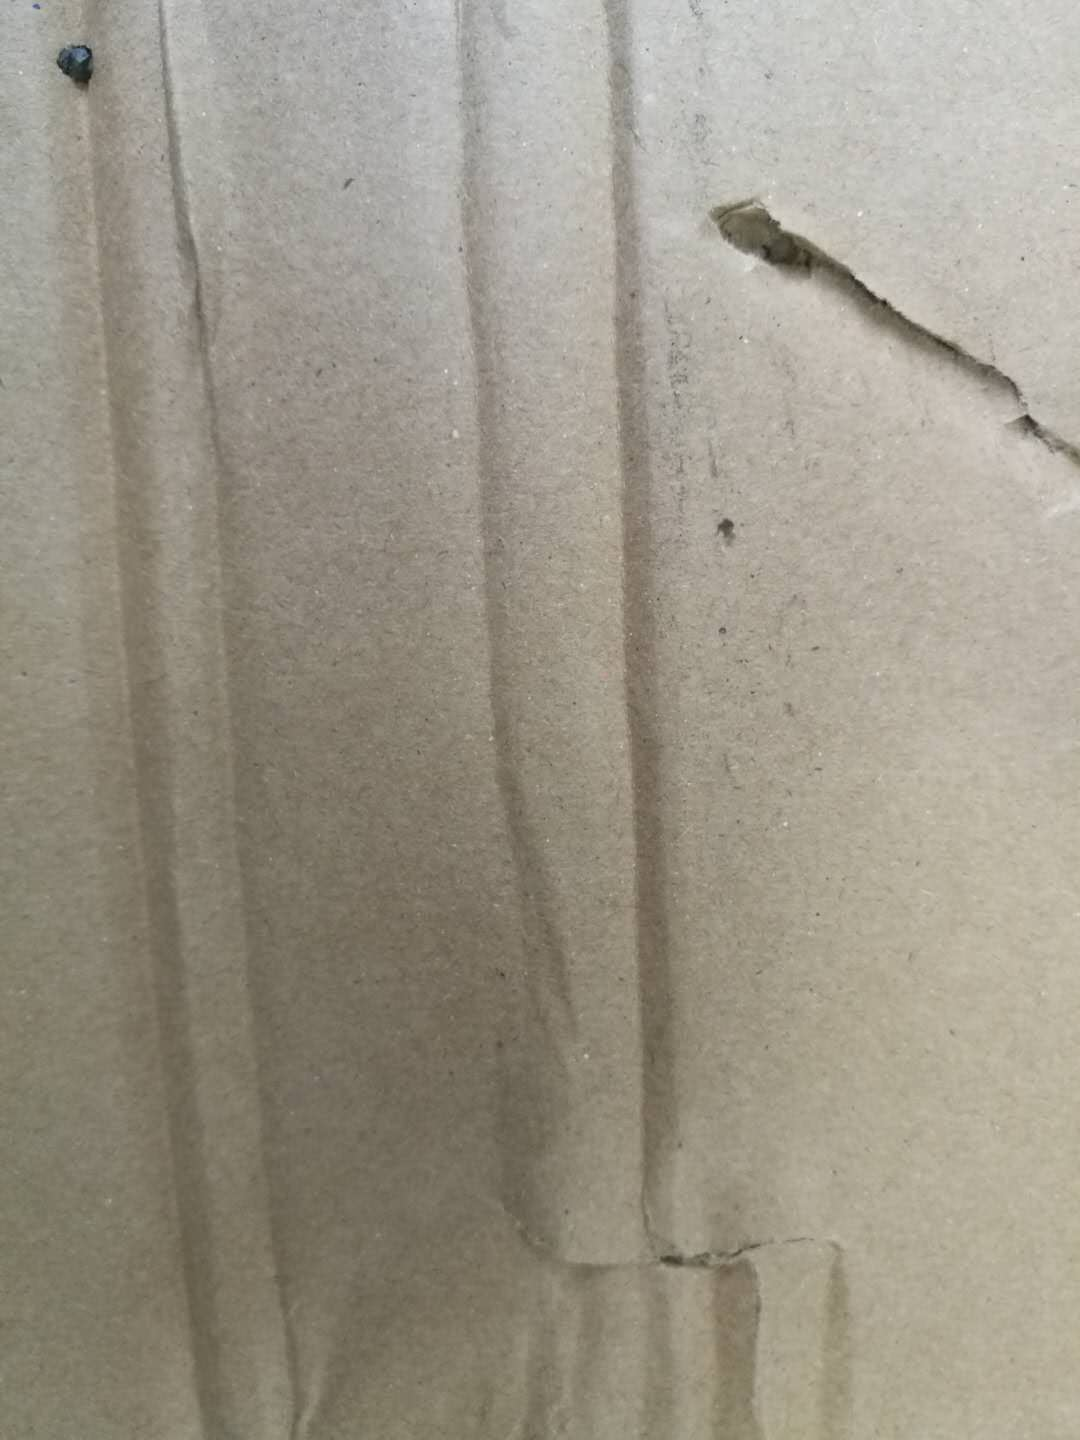defect: (2, 2, 366, 1438), (551, 1, 775, 1270), (391, 2, 608, 1058), (683, 170, 1080, 558), (431, 1133, 908, 1440)
